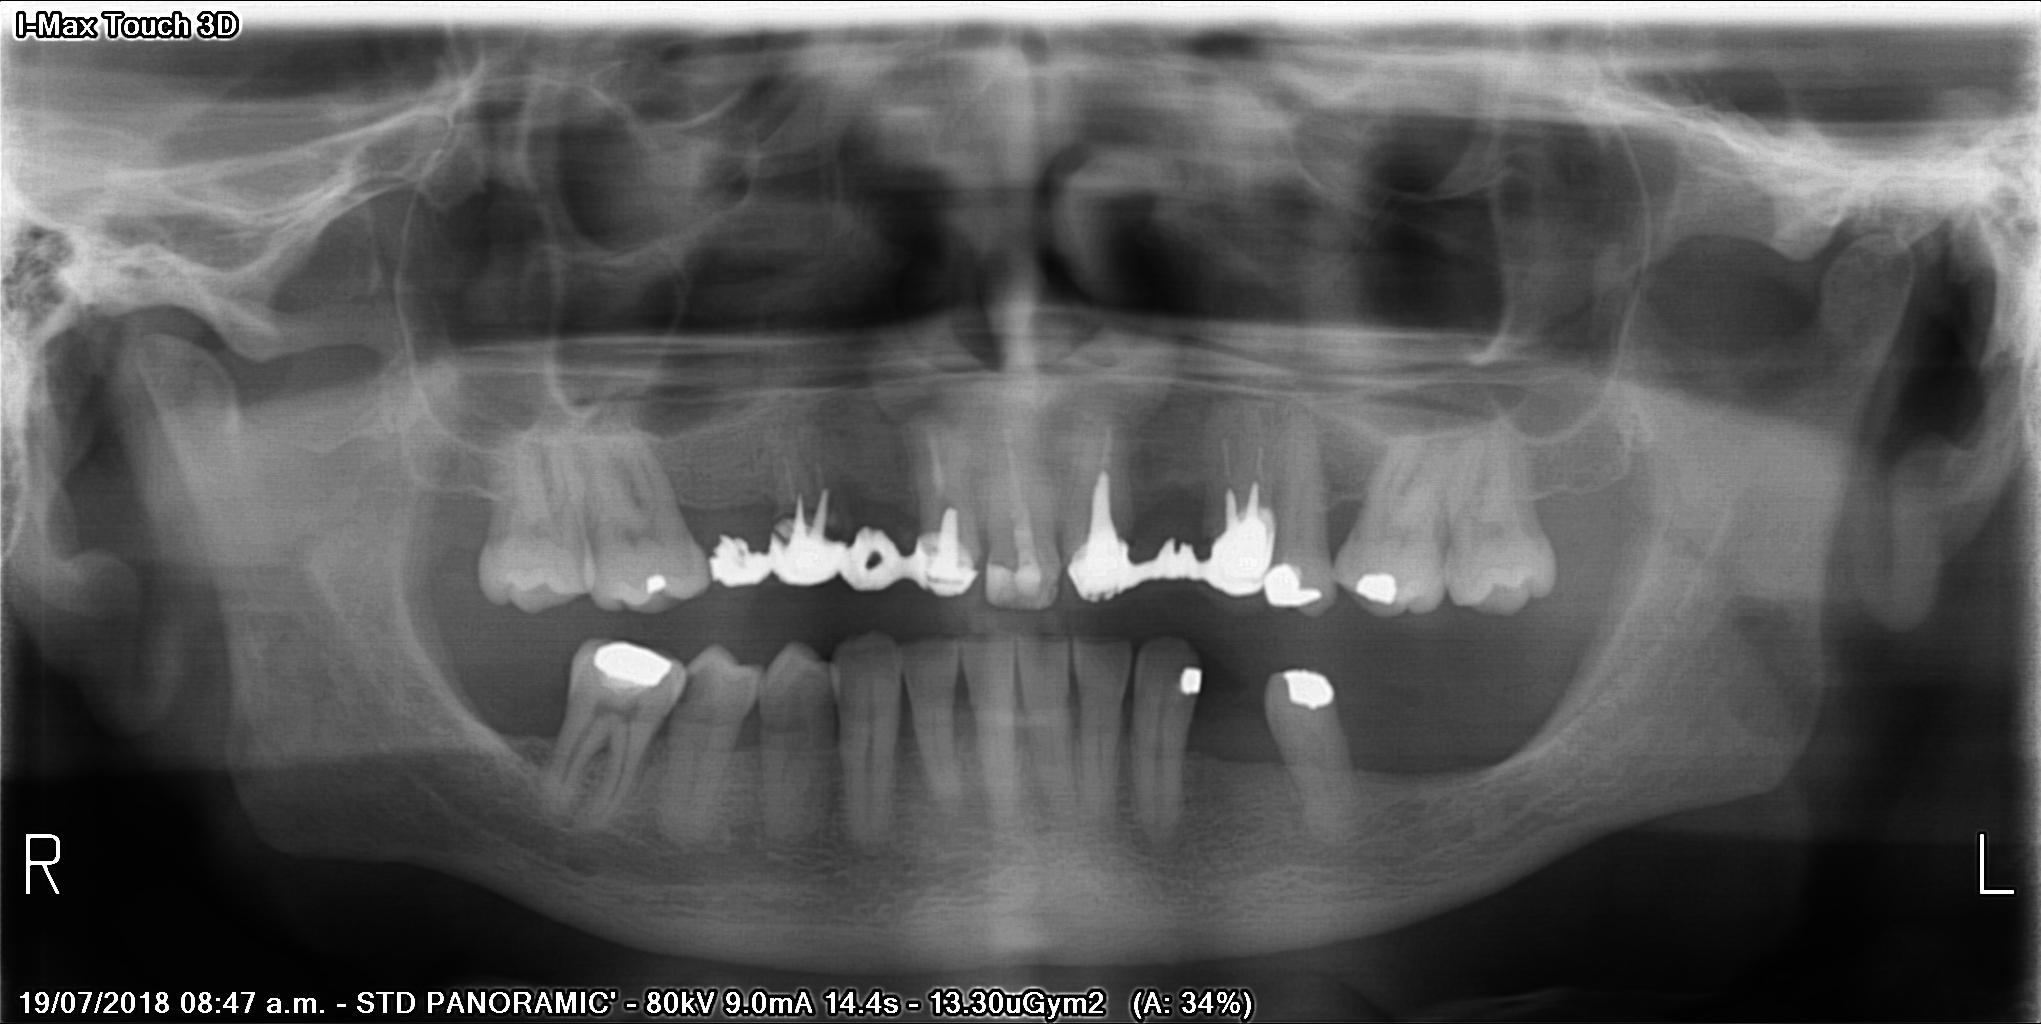Çürük: (1198, 501, 1282, 600), (764, 521, 850, 592), (904, 524, 979, 602), (1060, 530, 1138, 602), (1260, 554, 1338, 622), (590, 625, 668, 692), (984, 538, 1046, 612), (1269, 662, 1340, 714), (1342, 566, 1408, 604), (636, 568, 680, 604), (1172, 666, 1213, 696)
